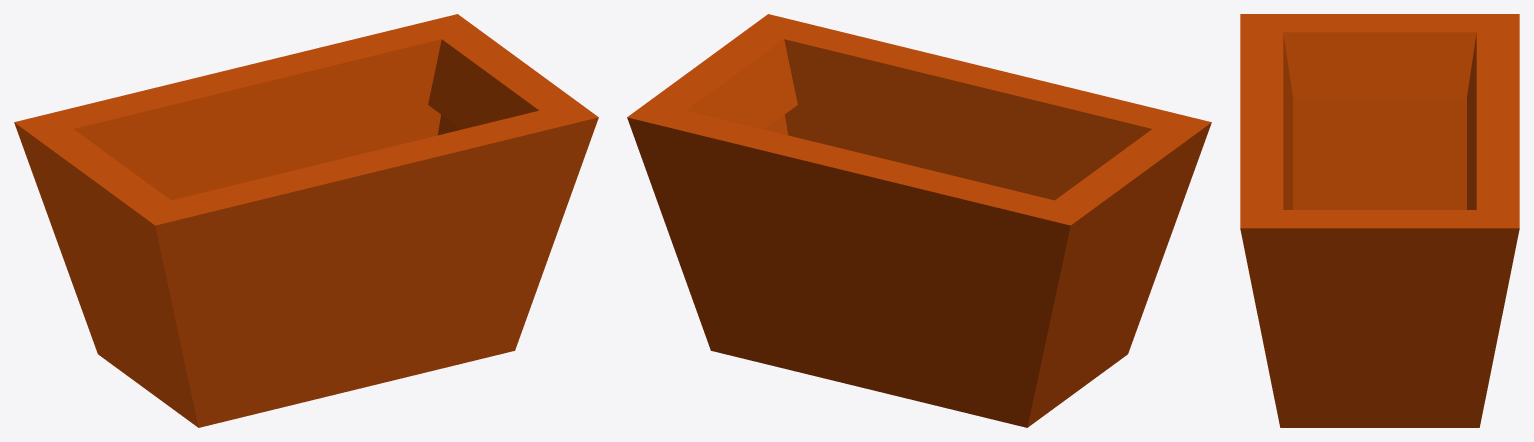
The model's file is кислотныйгрибфермабровн.obj.
The picture shows the model from 3 angles, left to right: view 1: azimuth 30°, elevation 25°; view 2: azimuth 150°, elevation 25°; view 3: azimuth 270°, elevation 25°; orthographic projection.
Visible parts, largest first — view 1: Cube_Cube.012; view 2: Cube_Cube.012; view 3: Cube_Cube.012.
Boxes of the visible parts, x1,y1,x2,y2 form: Cube_Cube.012: [14, 14, 598, 427]; Cube_Cube.012: [627, 14, 1211, 427]; Cube_Cube.012: [1240, 14, 1519, 427].
Size of the model in its own units: 2 by 1 by 1.1.
